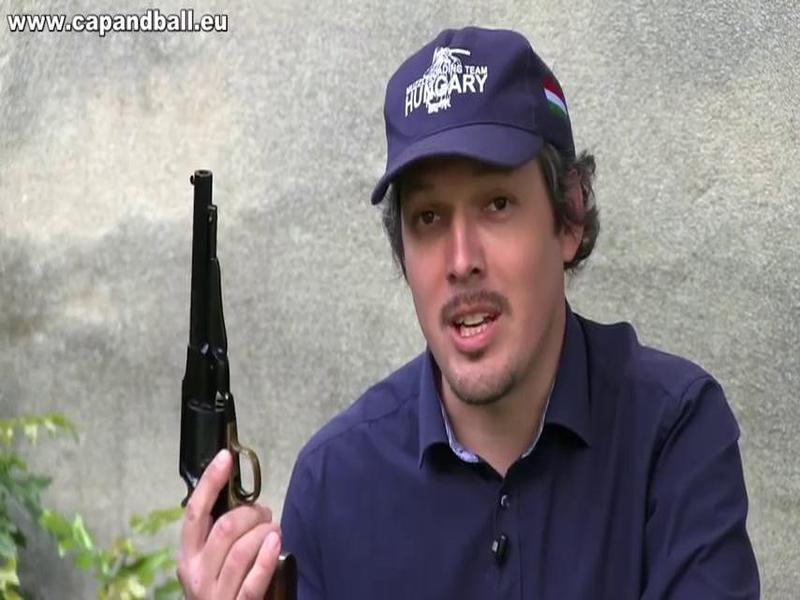Revolver: (142, 158, 342, 600)
